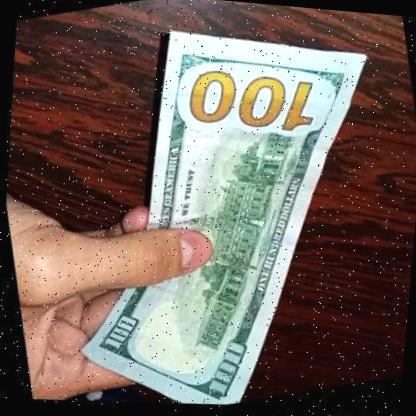dollar_back: (5, 0, 416, 416)
